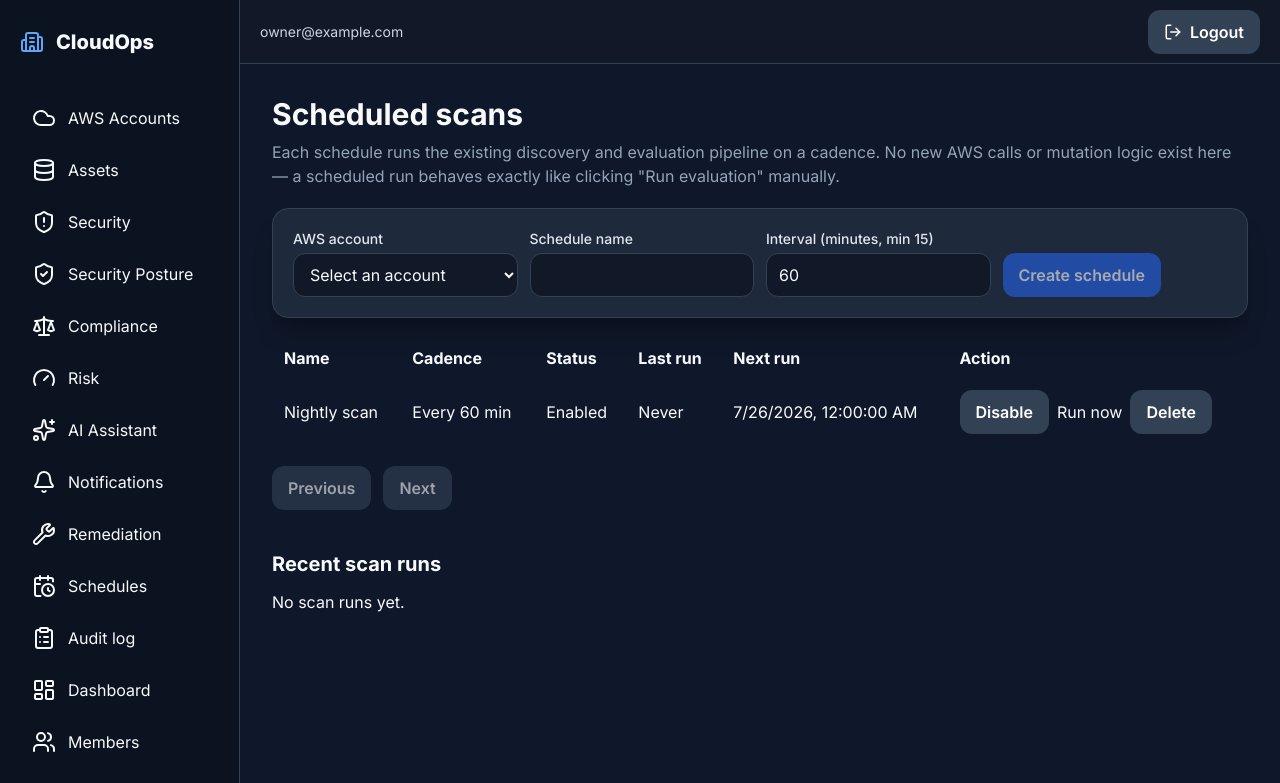
Test: Schedules page › surfaces a failed run-now action without crashing the page
Step 1. Click the button "Run now" → point(1090, 412), box [1057,390,1122,434]
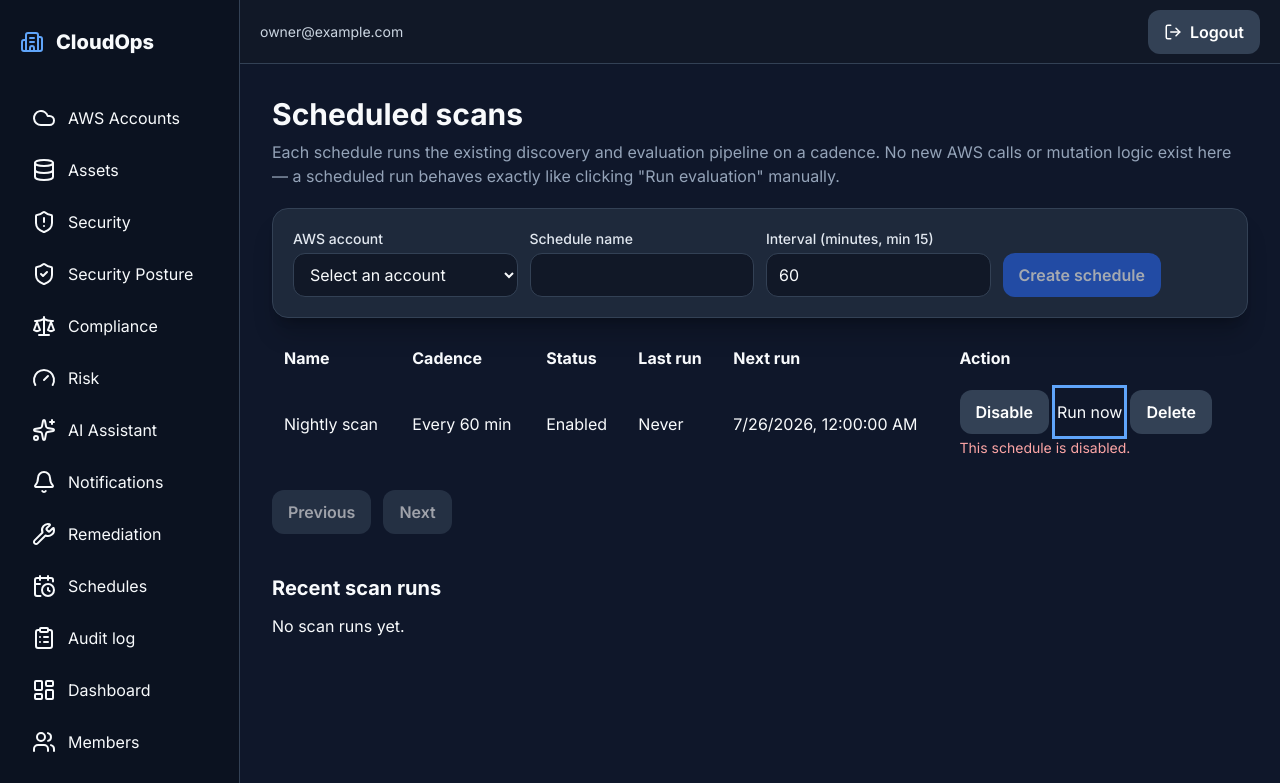
Expected: the heading "Scheduled scans" is shown, [272,96,523,132]
Now the text "This schedule is disabled." is shown, box [960,439,1130,456]
